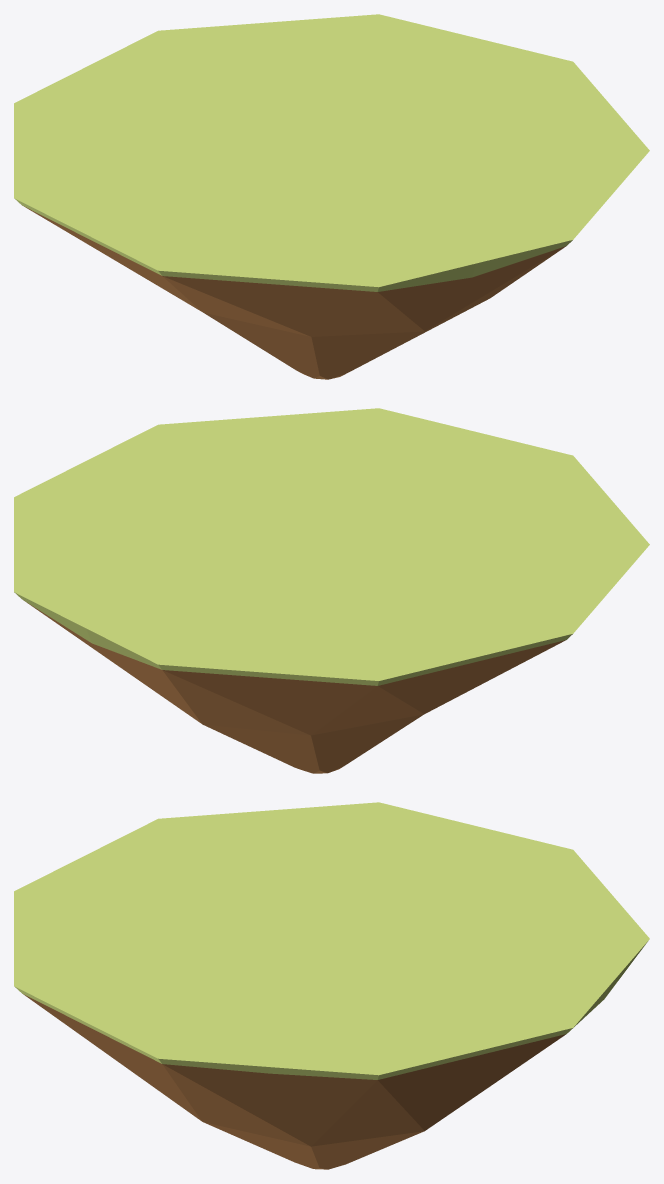
Rendered from island.glb.
3 views of the same model, one above another, from view 1: azimuth 30°, elevation 25°; view 2: azimuth 150°, elevation 25°; view 3: azimuth 270°, elevation 25° (orthographic).
Visible parts, largest first — view 1: IslandLarge; view 2: IslandLarge; view 3: IslandLarge.
Boxes of the visible parts, left/top/right/bottom form: IslandLarge: left=14, top=14, right=649, bottom=379; IslandLarge: left=14, top=408, right=649, bottom=773; IslandLarge: left=14, top=802, right=649, bottom=1169.
Bounding box in the file's own units: 4.34 × 1.67 × 4.28.
